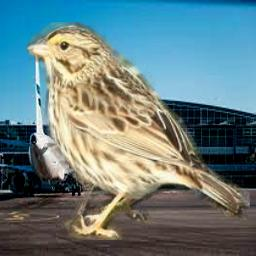Sparrow: (27, 22, 250, 240)
